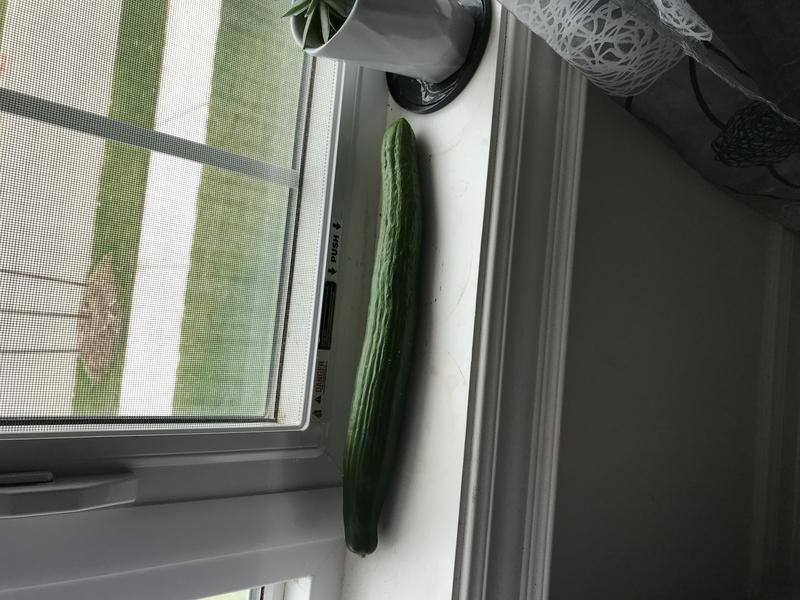cucumber: (335, 112, 426, 563)
